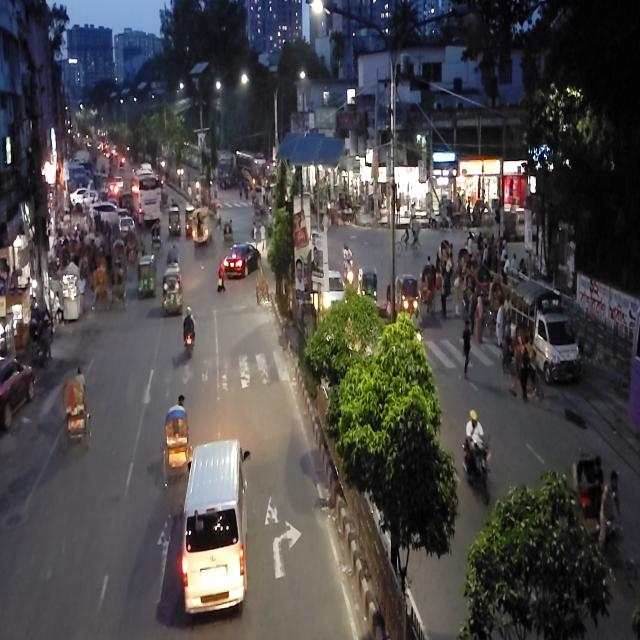black: (225, 245, 266, 279)
maroon: (0, 354, 35, 427)
white: (183, 442, 247, 618)
